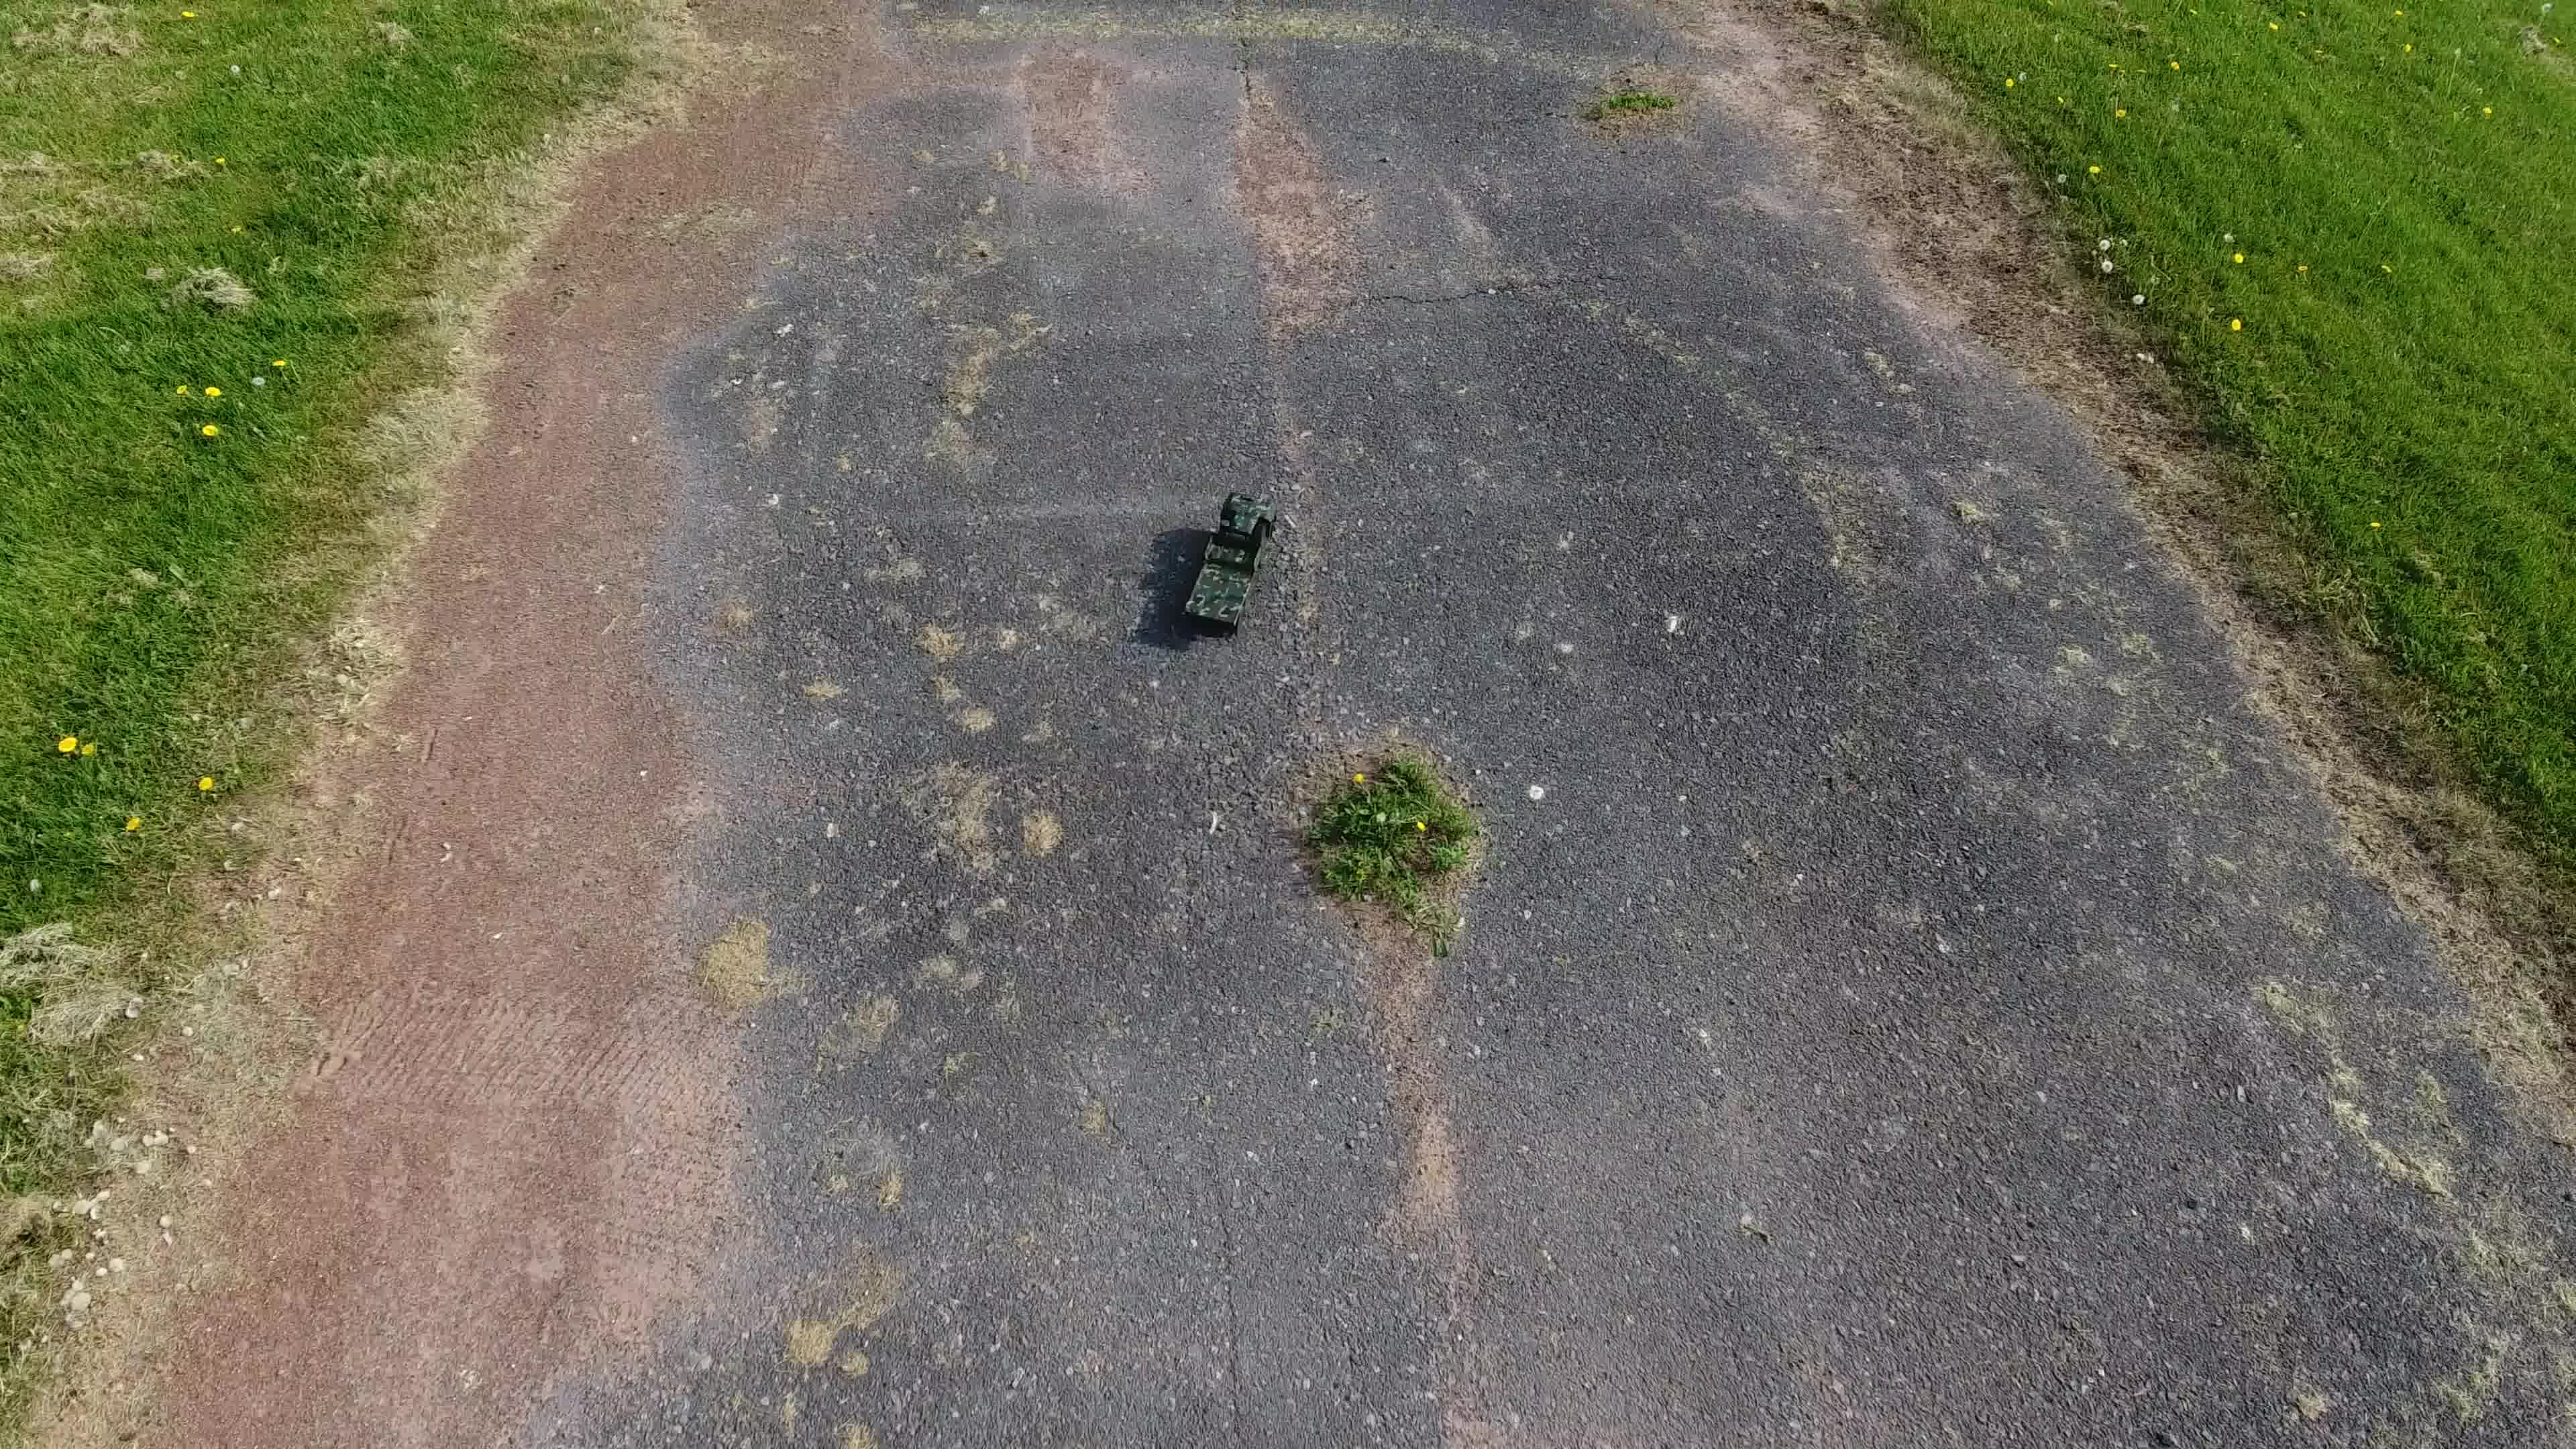transporter9: (1178, 488, 1284, 635)
